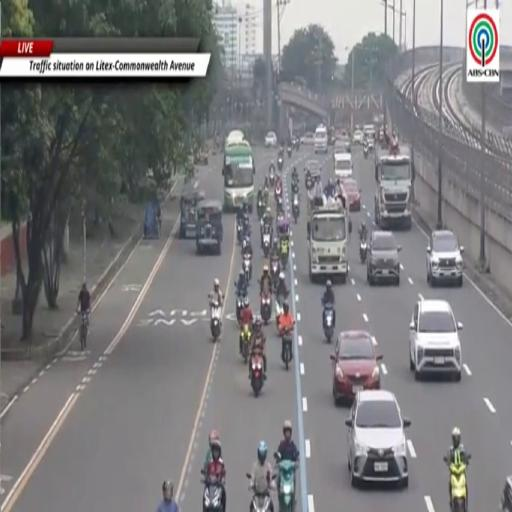bus: (223, 141, 255, 211)
car: (346, 390, 410, 487), (409, 299, 462, 381), (330, 330, 382, 405), (427, 230, 464, 286), (367, 231, 401, 285), (195, 199, 223, 255), (342, 179, 361, 211), (334, 153, 353, 179), (499, 475, 512, 512), (334, 135, 350, 152), (194, 149, 208, 165), (364, 133, 375, 151), (265, 132, 277, 148), (305, 160, 321, 171), (301, 133, 314, 146), (352, 130, 363, 145)
jeepney: (179, 183, 204, 238)
motorcycle: (444, 455, 471, 511), (274, 453, 296, 511), (201, 470, 223, 511), (275, 285, 289, 331), (251, 350, 264, 396), (280, 327, 293, 371), (210, 301, 221, 342), (240, 325, 251, 364), (323, 303, 333, 343), (261, 292, 272, 325), (251, 493, 271, 511), (243, 253, 252, 285), (270, 260, 279, 291), (236, 295, 245, 324), (262, 233, 272, 258), (280, 238, 288, 269), (292, 195, 299, 223), (360, 237, 367, 263), (237, 221, 243, 244), (274, 184, 282, 201), (257, 199, 264, 218), (276, 196, 283, 214), (269, 167, 275, 185), (277, 156, 283, 170), (292, 180, 298, 193), (294, 138, 300, 151), (306, 178, 312, 190), (363, 144, 368, 158), (287, 146, 292, 158), (279, 146, 284, 156)
truck: (307, 202, 351, 283), (375, 140, 412, 229)
